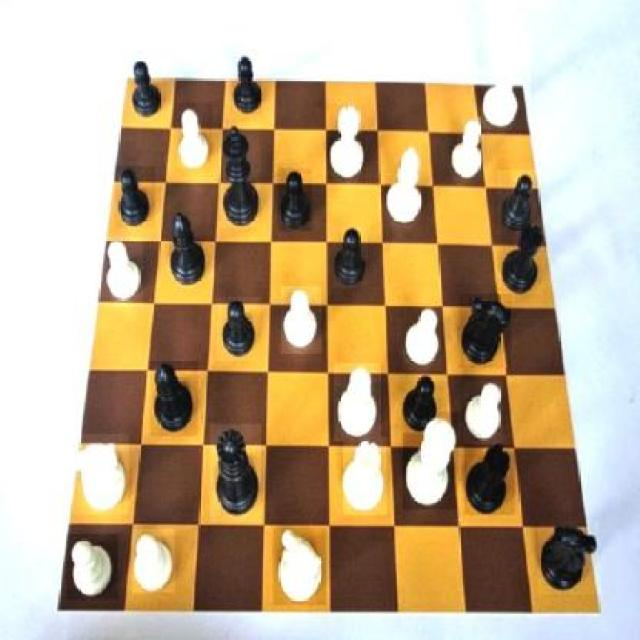bishop: (151, 360, 198, 436), (164, 210, 204, 284)
black-bishop: (220, 123, 259, 229)
black-king: (538, 520, 600, 595), (458, 294, 511, 368)
black-knight: (217, 297, 259, 361), (116, 166, 156, 229), (499, 170, 536, 234), (400, 374, 438, 433), (278, 168, 312, 230), (334, 228, 369, 288), (230, 52, 262, 115), (130, 58, 162, 118)
black-pawn: (210, 425, 262, 522)
black-queen: (464, 444, 516, 514), (500, 218, 545, 294)
black-rook: (334, 363, 380, 441), (384, 143, 428, 224)
white-bishop: (403, 412, 459, 510)
white-king: (72, 434, 130, 514), (272, 528, 326, 605)
white-knight: (66, 534, 119, 598), (101, 237, 144, 307), (132, 529, 176, 593), (280, 286, 321, 354), (174, 103, 211, 173), (463, 382, 503, 446), (403, 306, 441, 370), (448, 117, 482, 185)
white-pawn: (482, 29, 532, 130)
white-queen: (343, 437, 387, 515), (326, 104, 366, 180)
